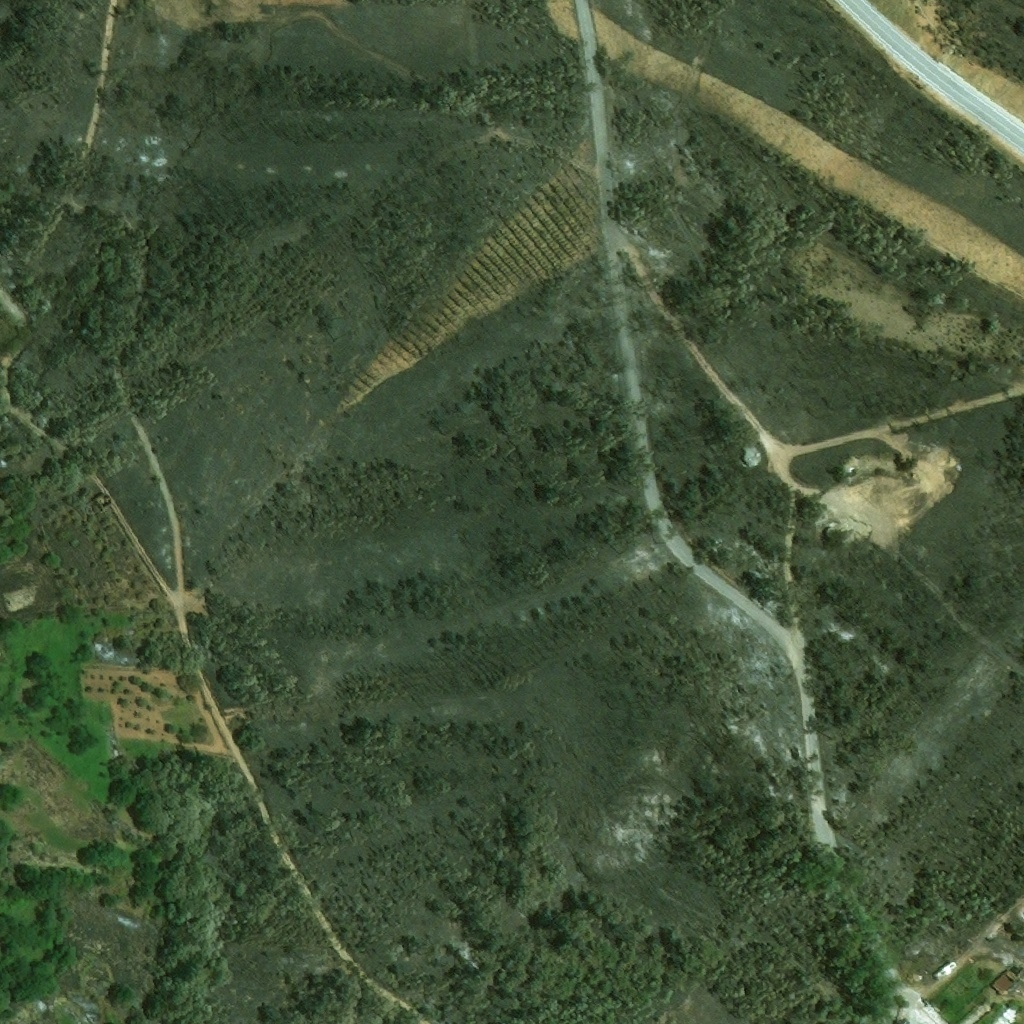0 no-damage: (990, 967, 1018, 993), (994, 1007, 1020, 1023), (743, 448, 759, 464), (1005, 954, 1016, 963)
4 un-classified: (95, 492, 113, 510)
